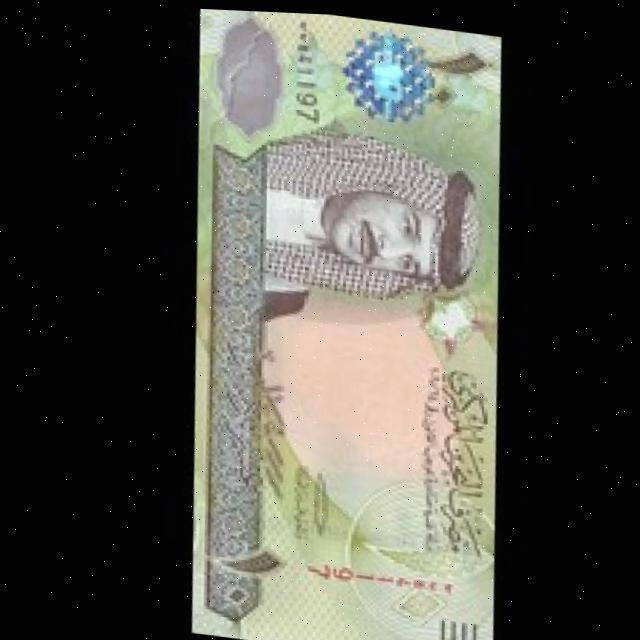banknote: (147, 5, 538, 640)
